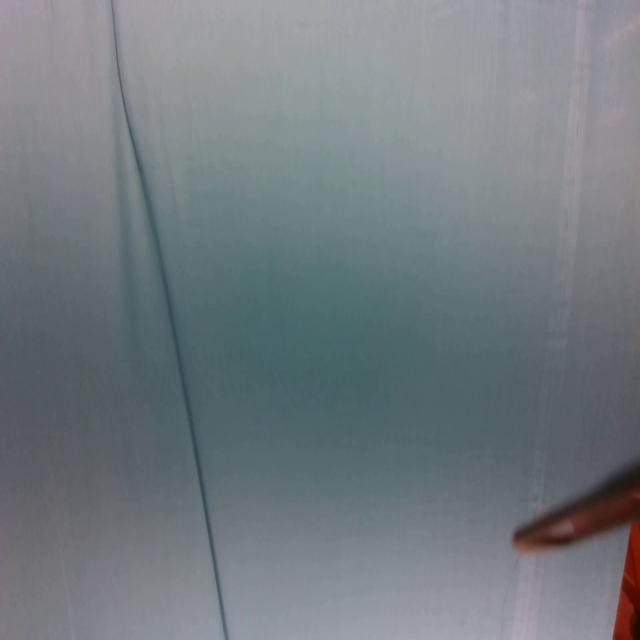crease: (110, 0, 230, 640), (527, 0, 595, 484), (52, 466, 86, 638), (516, 552, 543, 640)
